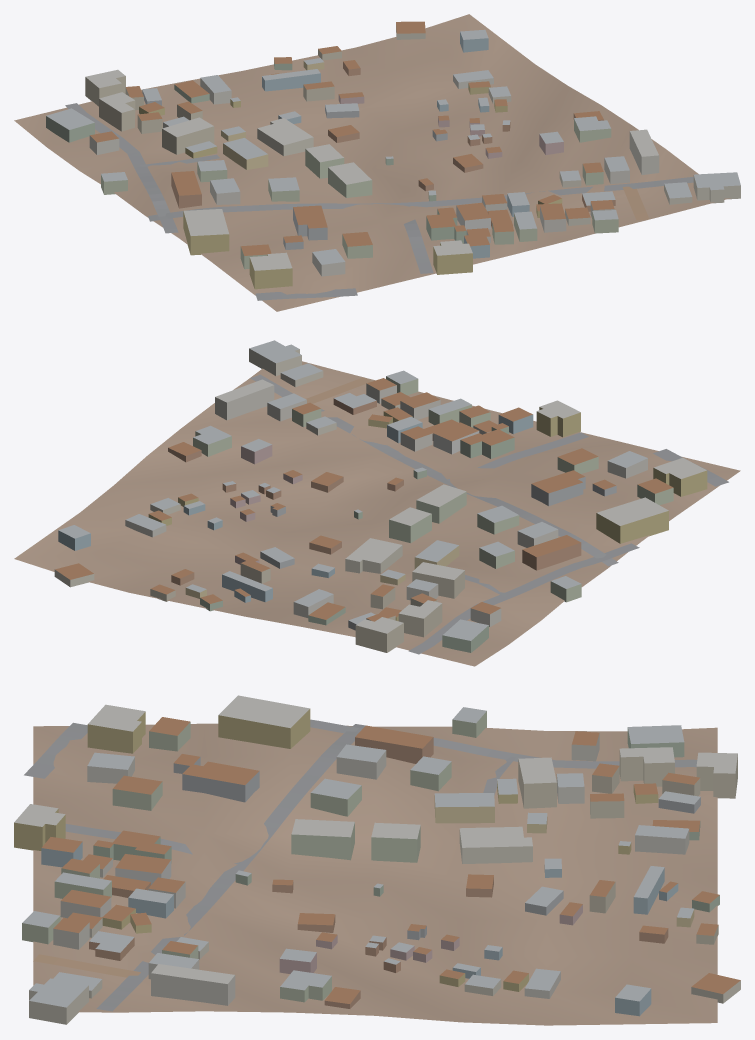
3 views of the same model, one above another, from view 1: azimuth 30°, elevation 25°; view 2: azimuth 150°, elevation 25°; view 3: azimuth 270°, elevation 25° (orthographic). The views are drawn at different scales.
Parts seen in each view (by area): view 1: Lo; view 2: Lo; view 3: Lo.
Boxes of the visible parts, x1,y1,x2,y2 form: Lo: [14, 14, 740, 311]; Lo: [14, 340, 740, 666]; Lo: [14, 695, 740, 1025].
Size of the model in its own units: 270 by 16.97 by 272.
